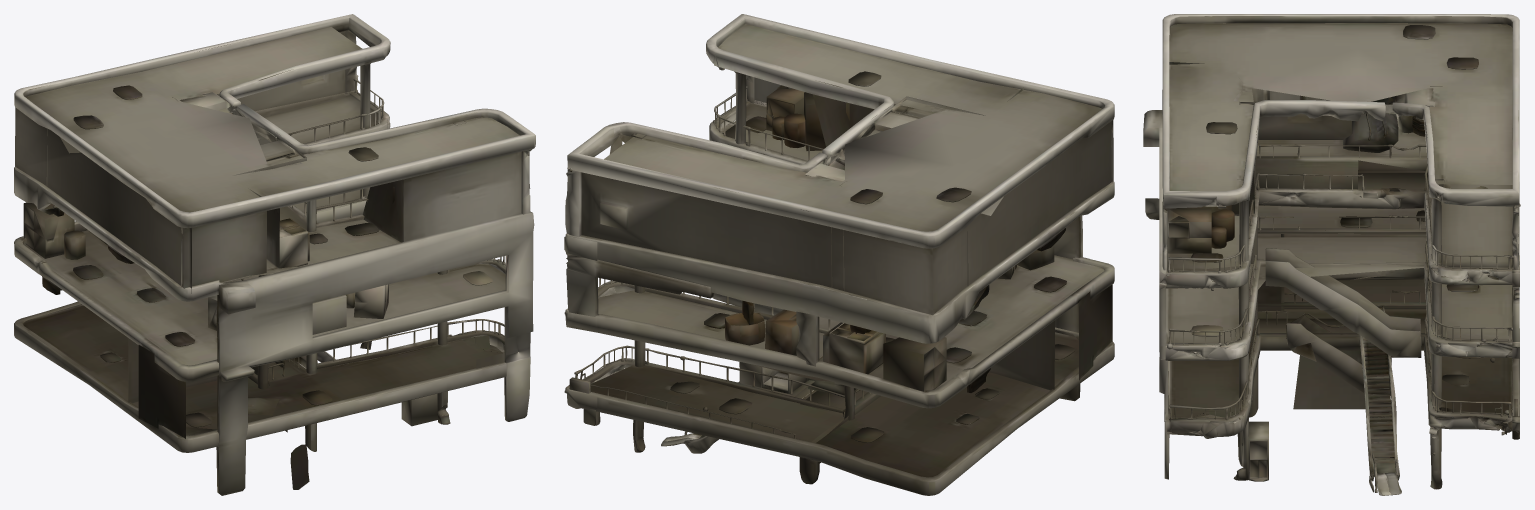
The model's file is shopping_mall.glb.
3 renders of one model, left to right at view 1: azimuth 30°, elevation 25°; view 2: azimuth 150°, elevation 25°; view 3: azimuth 270°, elevation 25°, orthographic. The views are drawn at different scales.
Parts seen in each view (by area): view 1: tripo_node_cf6de3ef-f0ce-4735-9374-7e295930be35; view 2: tripo_node_cf6de3ef-f0ce-4735-9374-7e295930be35; view 3: tripo_node_cf6de3ef-f0ce-4735-9374-7e295930be35.
Boxes of the visible parts, x1,y1,x2,y2 form: tripo_node_cf6de3ef-f0ce-4735-9374-7e295930be35: [14, 14, 535, 495]; tripo_node_cf6de3ef-f0ce-4735-9374-7e295930be35: [564, 14, 1114, 495]; tripo_node_cf6de3ef-f0ce-4735-9374-7e295930be35: [1143, 14, 1520, 495].
Bounding box in the file's own units: 17.26 × 14.99 × 15.35.
Materials: 1 (1 with a texture image).
